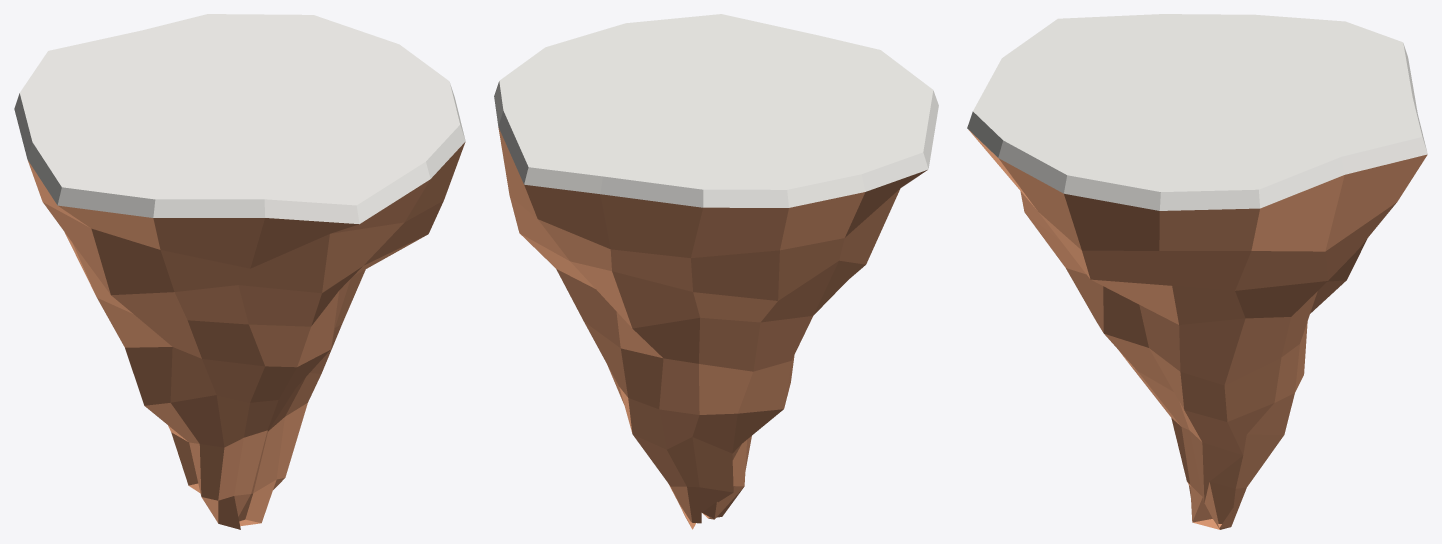
Rendered from island8.fbx.
3 renders of one model, left to right at view 1: azimuth 30°, elevation 25°; view 2: azimuth 150°, elevation 25°; view 3: azimuth 270°, elevation 25°, orthographic. The views are drawn at different scales.
Parts seen in each view (by area): view 1: Cylinder.001, Cylinder; view 2: Cylinder.001, Cylinder; view 3: Cylinder.001, Cylinder.
Boxes of the visible parts, x1,y1,x2,y2 form: Cylinder.001: [14, 14, 465, 224]; Cylinder: [27, 142, 465, 529]; Cylinder.001: [494, 14, 938, 207]; Cylinder: [498, 127, 927, 529]; Cylinder.001: [967, 14, 1427, 210]; Cylinder: [969, 130, 1427, 529].
Size of the model in its own units: 20127 by 21098 by 20071.
